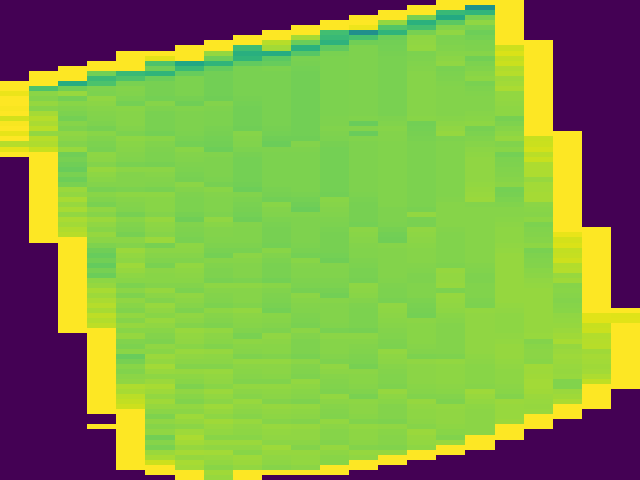cylinder: (2, 3, 632, 480)
